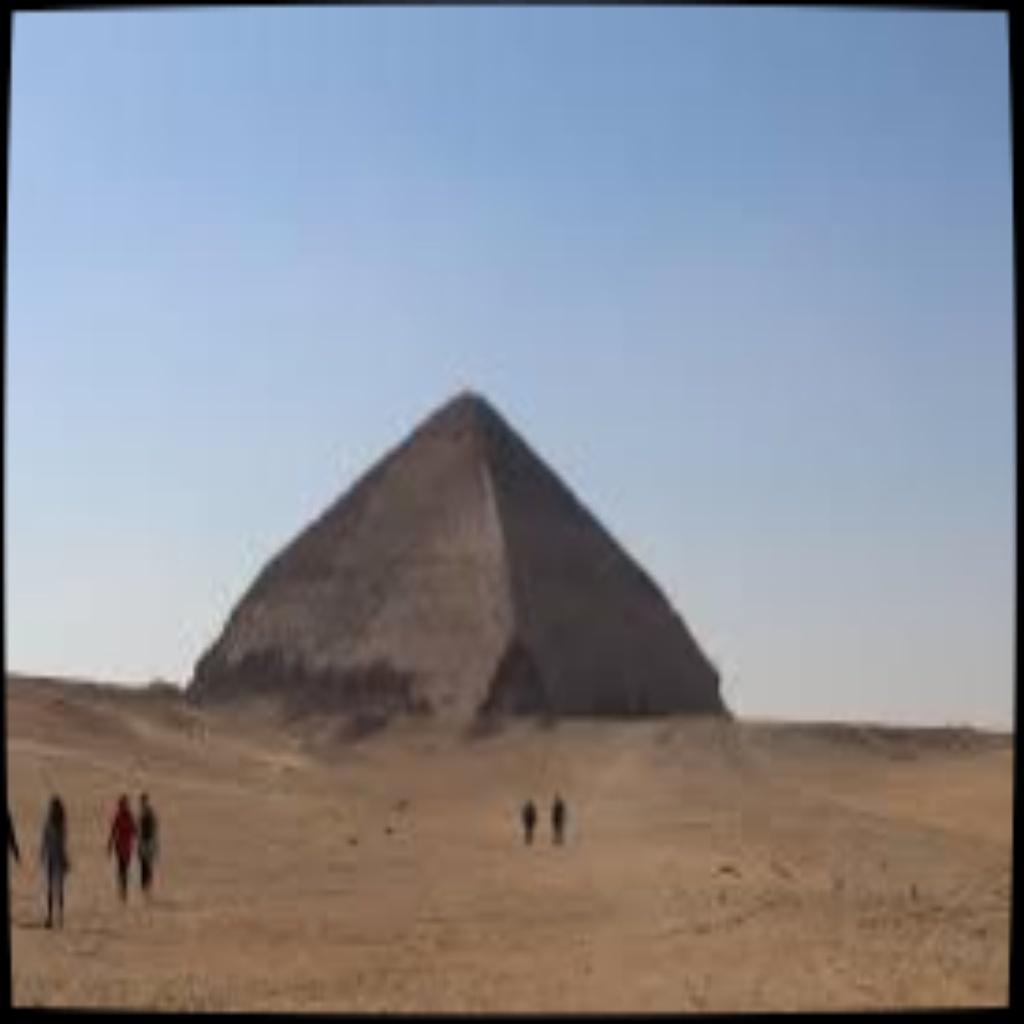Bent Pyramid of King Sneferu: (182, 380, 734, 734)
